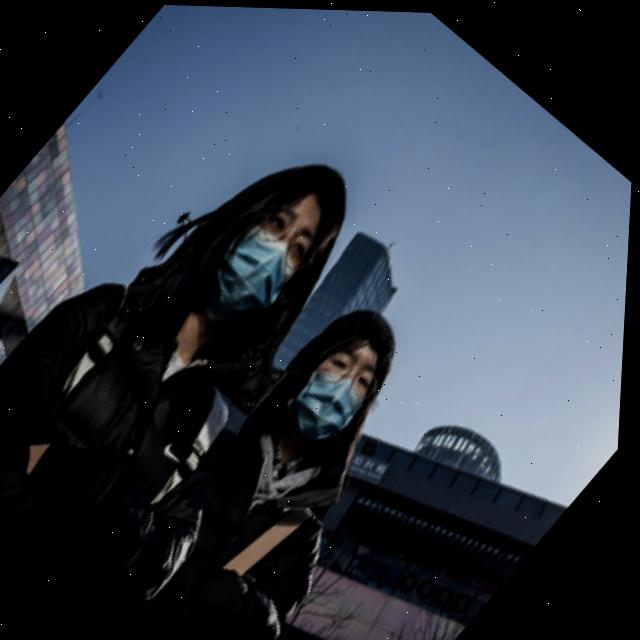Mask: (185, 209, 315, 339), (278, 355, 380, 457)
